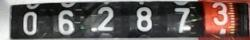digits: (174, 7, 192, 32), (97, 6, 114, 31), (136, 6, 152, 32), (58, 10, 75, 34), (211, 2, 228, 25), (22, 11, 37, 34)
